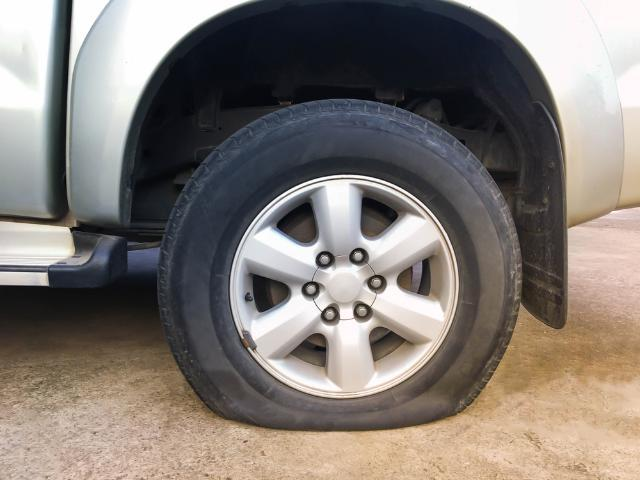tire flat: (156, 96, 522, 429)
